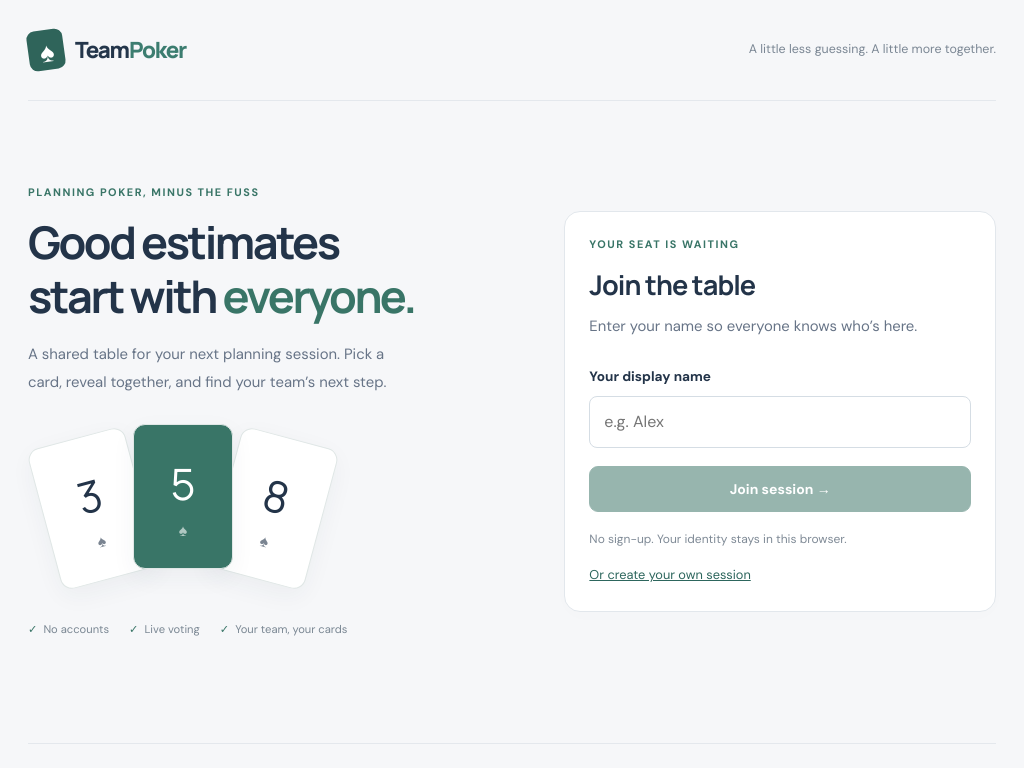
session interface › asks a nonmember to join the invitation
Expected: the heading "Join the table" is shown, [589,266,755,303]
Type "Alex" into the field labelled "Your display name" at [780, 422], box [589,396,971,448]
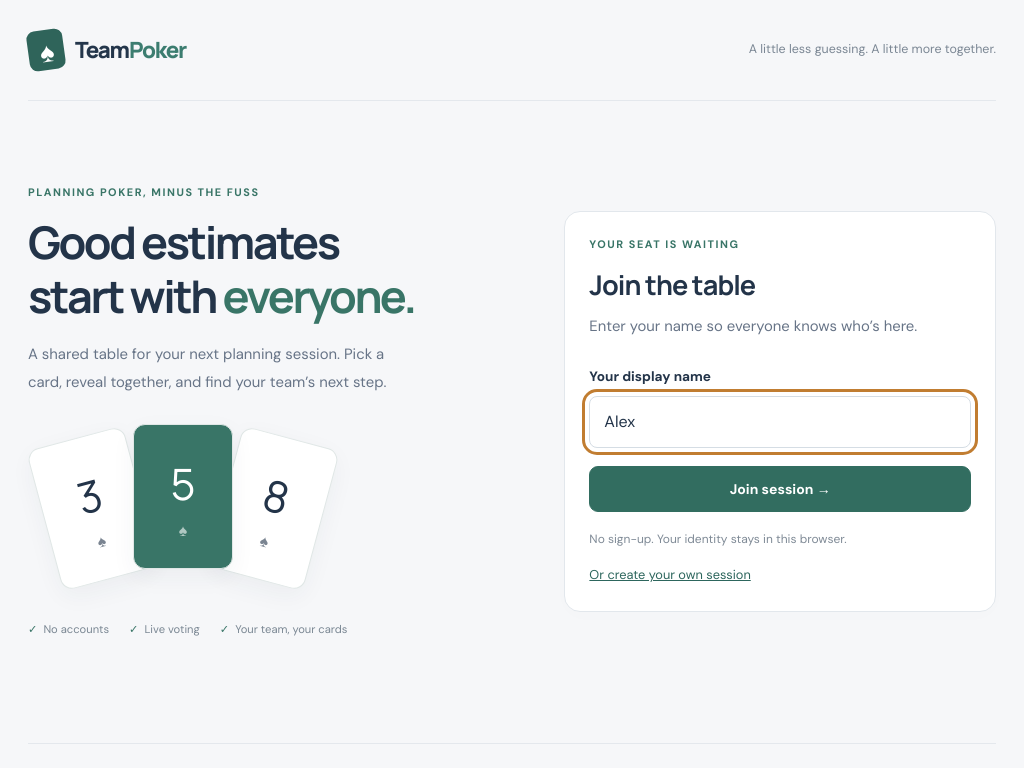
Click the button "Join session →" at [780, 489], box [589,466,971,512]
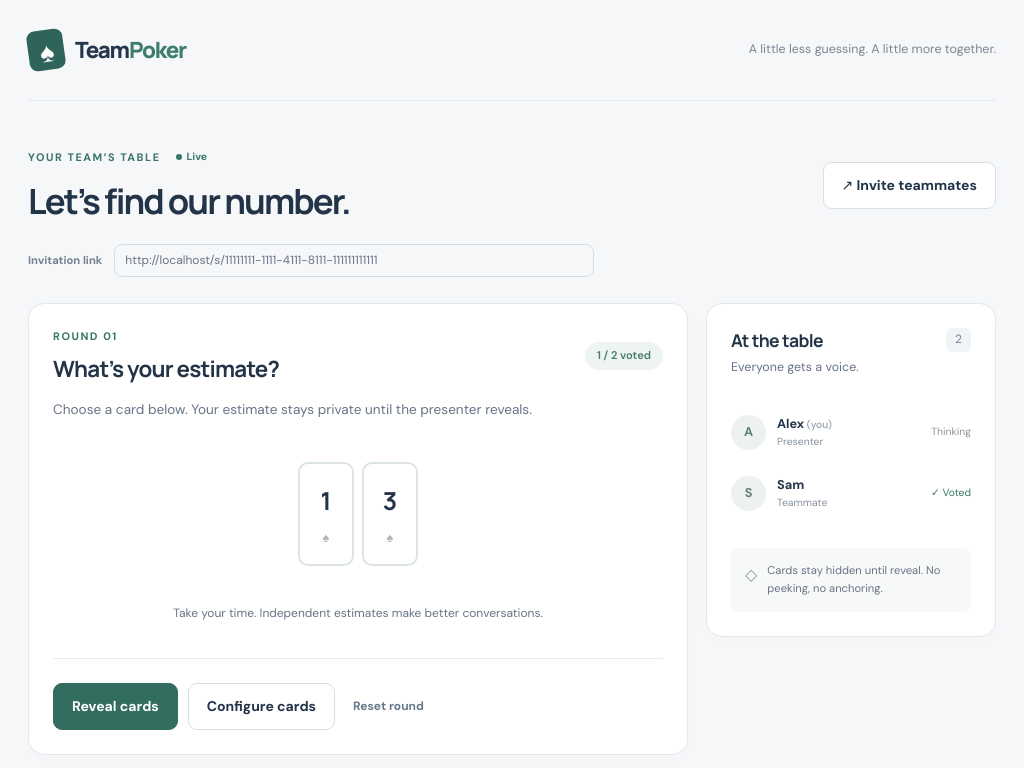
Now the heading "What’s your estimate?" is shown, box [53,354,279,383]
